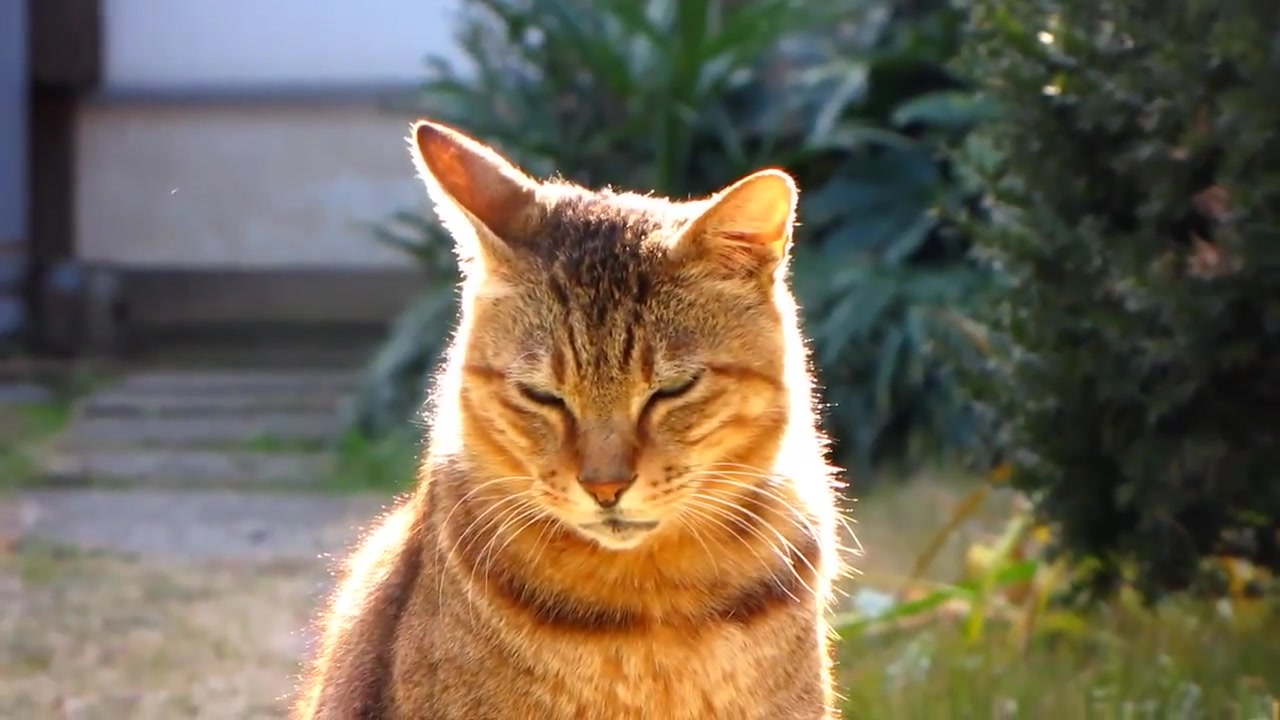cat: (285, 122, 859, 720)
